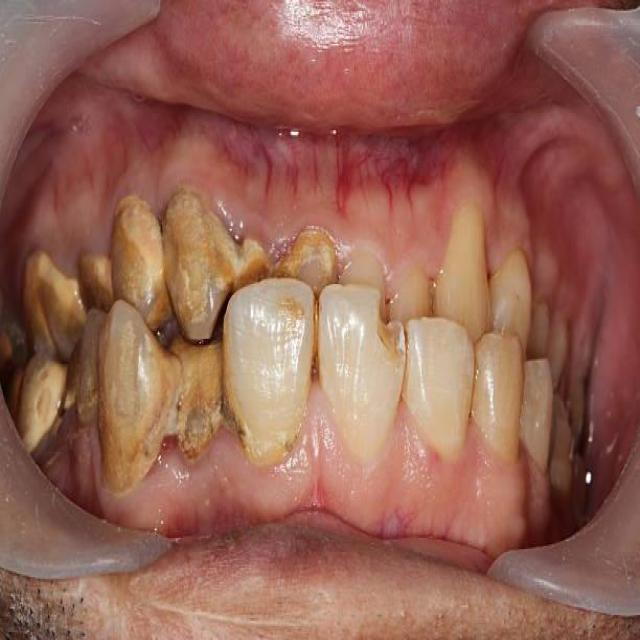caries: (364, 280, 410, 368)
